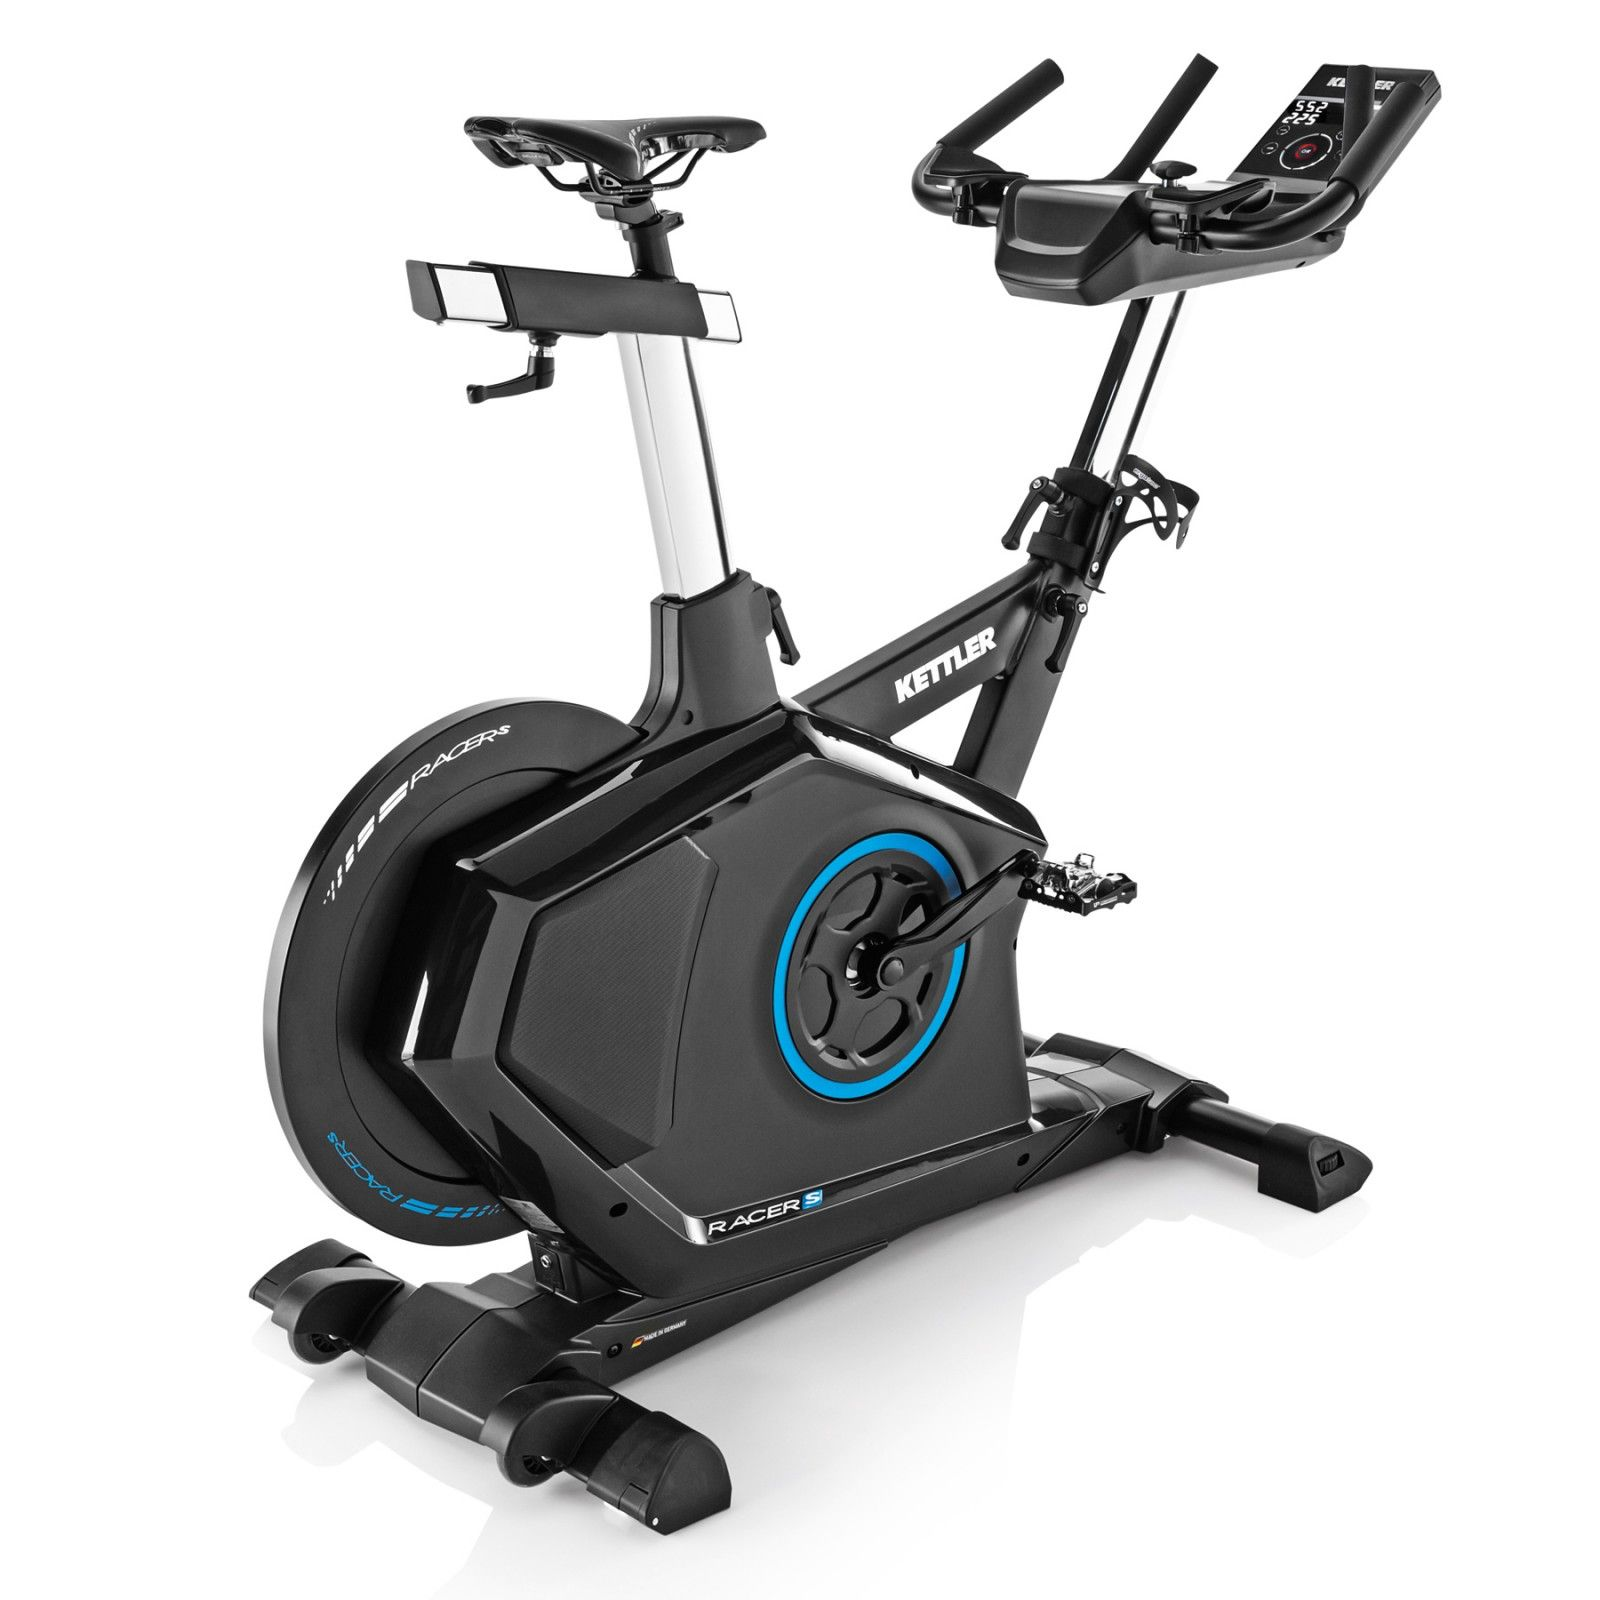gym_bike: (163, 66, 1451, 1530)
